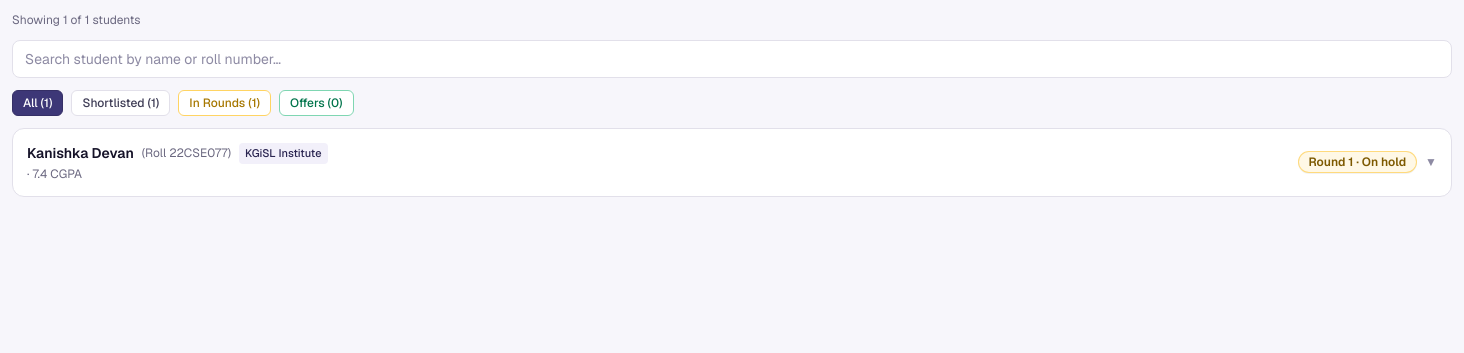
Test: the words a roster may put on screen › spells a round's result instead of showing its column value
What coordinates should you click on to do the following:
click the button "Kanishka Devan"
I would click on:
 (80, 153)
Its box is [13,129,1451,196].
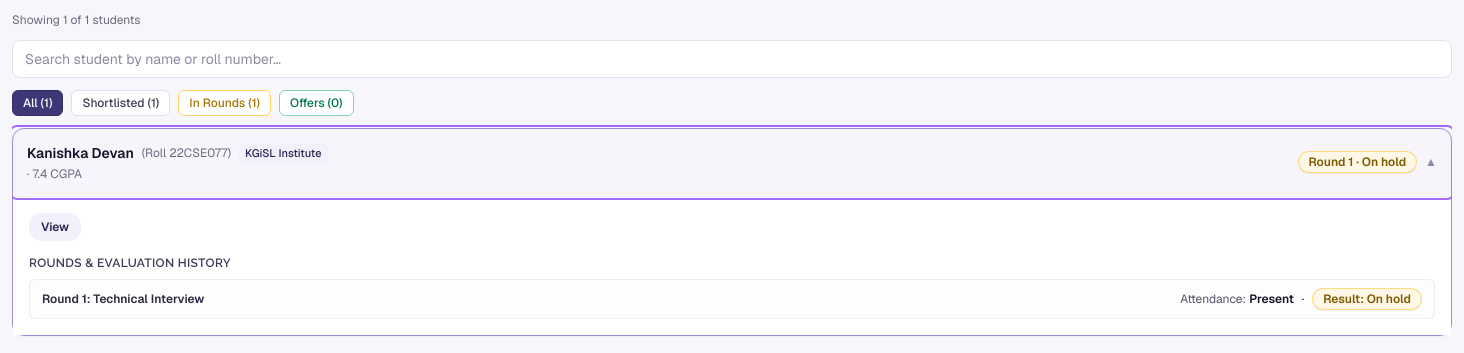
expect the text "Result: On hold" is shown: met, box [1312,288,1422,310]
